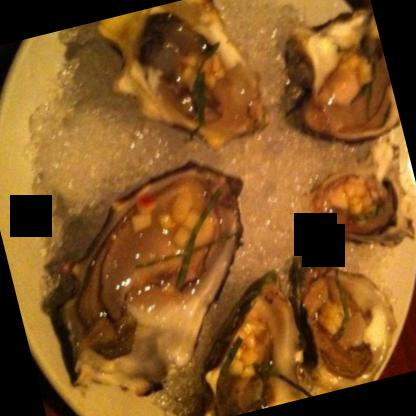oyster: (14, 153, 290, 413), (87, 0, 283, 169), (262, 3, 403, 160), (169, 274, 313, 415), (278, 243, 406, 396), (306, 152, 415, 265)
